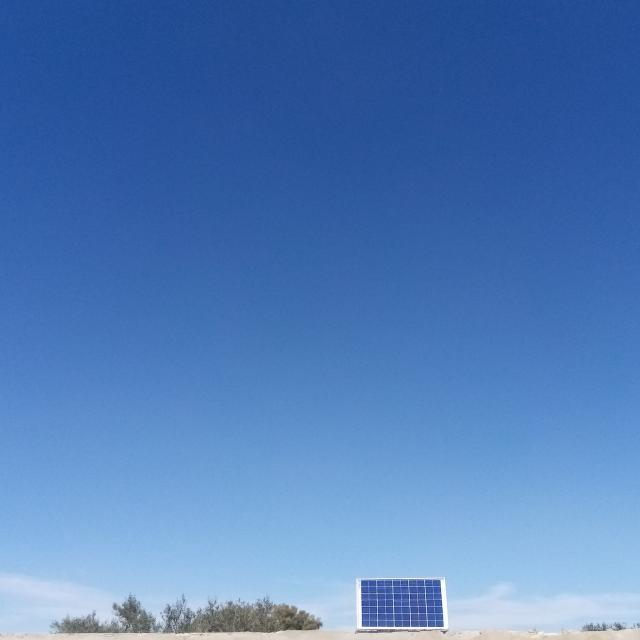no faulty: (357, 578, 449, 630)
